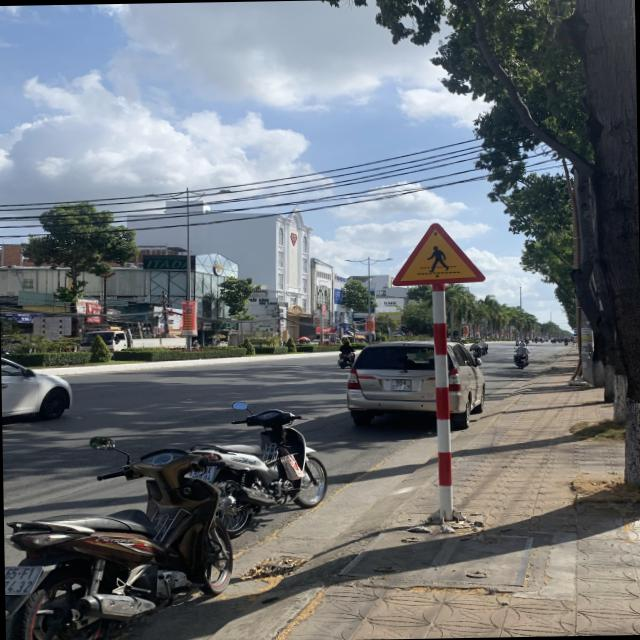Duong_Nguoi_Di_Bo_Sang_Ngang: (388, 220, 486, 286)
